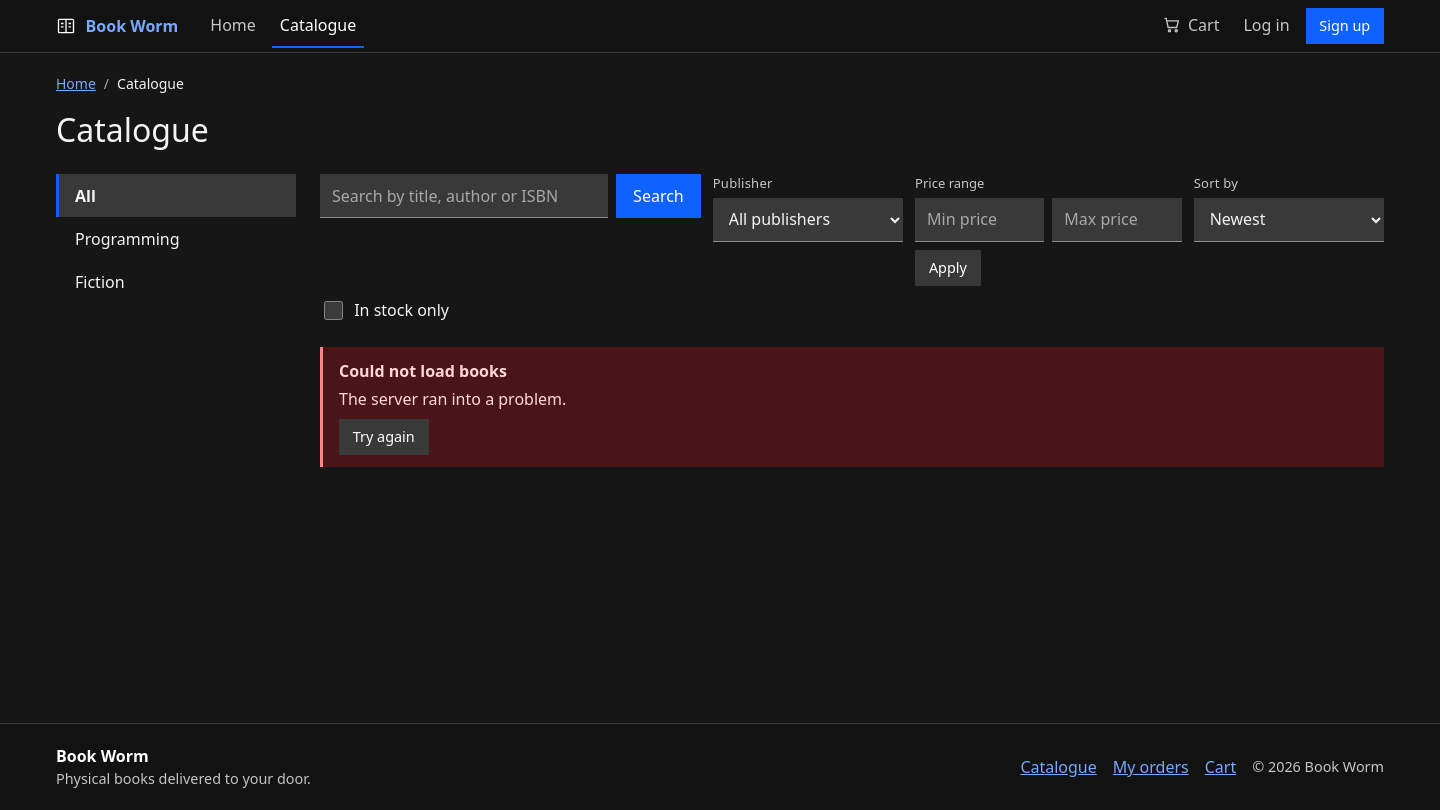
Test case: Journey: browsing the catalogue › shows an error with a retry button, and recovers when retried
Expected: the text "Could not load books" is shown, [339,360,507,382]
Click the button "Try again": (384, 437) [339,419,428,455]
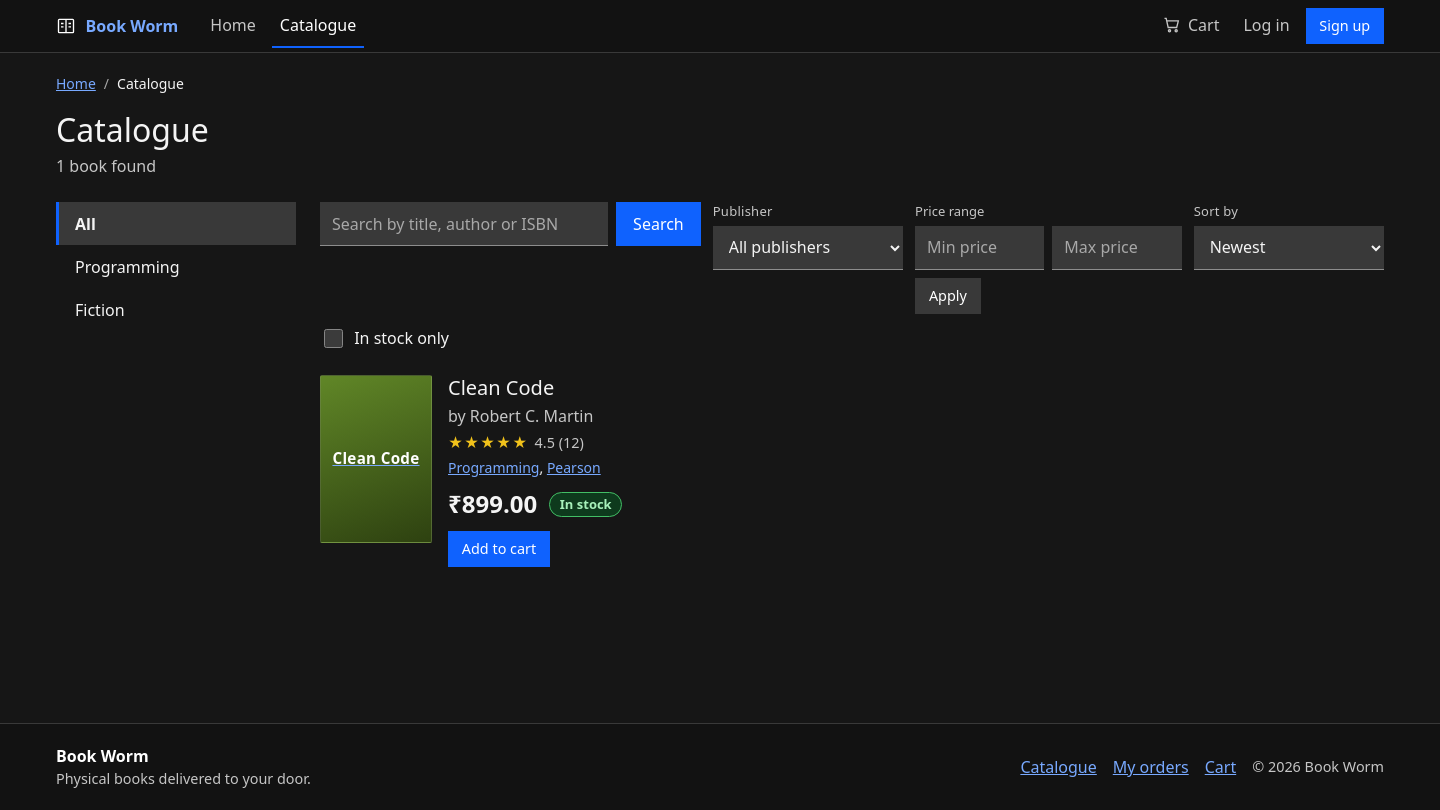
Result: the 1st link "Clean Code" is shown at [448,374,554,401]
